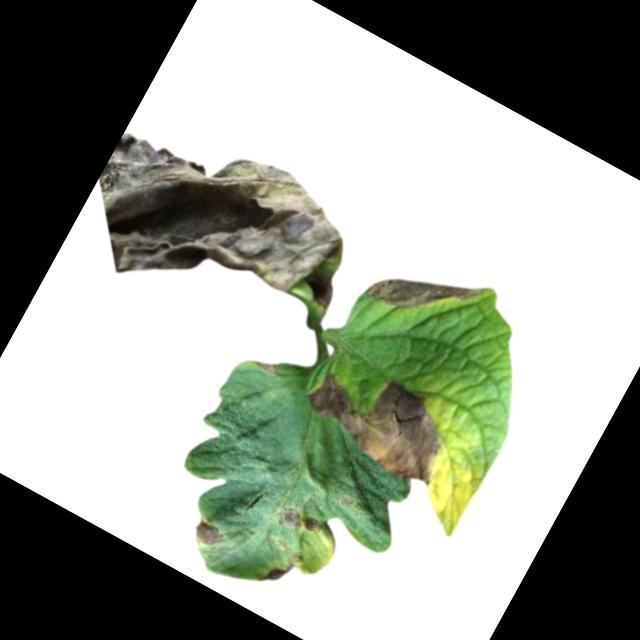Early_blight: (63, 93, 376, 371), (295, 347, 466, 494), (362, 238, 484, 345), (273, 500, 324, 544), (258, 550, 297, 591), (188, 515, 229, 552), (253, 354, 282, 379), (336, 493, 356, 512)
